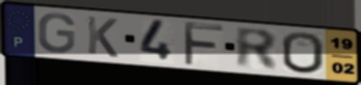4: (138, 17, 178, 65)
F: (182, 20, 227, 67)
G: (36, 12, 77, 55)
K: (85, 14, 120, 60)
O: (279, 30, 326, 76)
R: (233, 25, 281, 72)
